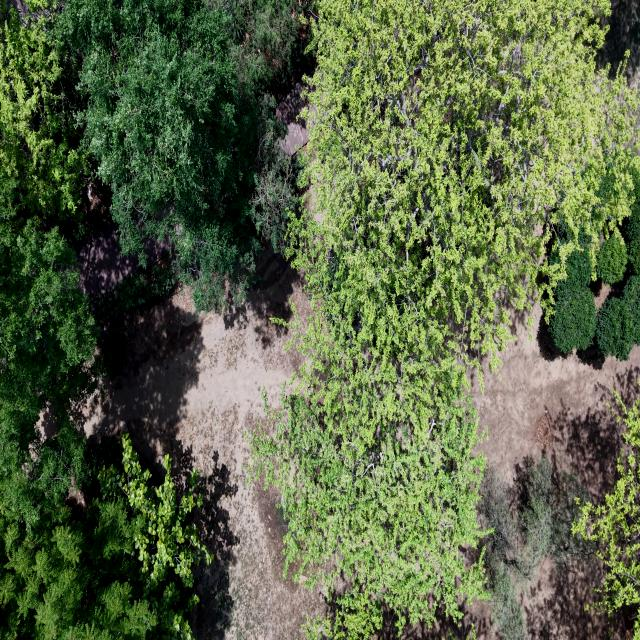DRY_AREA: (84, 249, 323, 639), (86, 251, 324, 639), (471, 305, 639, 497), (471, 304, 639, 481), (75, 224, 169, 297), (76, 224, 143, 297), (596, 0, 639, 87)
VEGETATION_TREE: (0, 0, 639, 639), (251, 0, 636, 624), (0, 8, 208, 639), (294, 1, 630, 358), (0, 0, 309, 309), (0, 218, 201, 639), (55, 0, 298, 309), (252, 322, 485, 625), (125, 1, 304, 303), (0, 7, 103, 520), (0, 7, 96, 520), (0, 436, 209, 639), (478, 392, 639, 639), (480, 391, 639, 639), (0, 220, 95, 521), (0, 497, 194, 639), (0, 219, 95, 476), (478, 457, 593, 639), (479, 457, 592, 639), (0, 219, 94, 419), (0, 9, 85, 222), (550, 168, 639, 359), (97, 435, 210, 585), (573, 392, 639, 614), (2, 373, 90, 523), (208, 0, 312, 93), (596, 168, 639, 359), (549, 273, 639, 359), (250, 93, 296, 253), (90, 255, 175, 321), (549, 232, 595, 352), (303, 591, 395, 639), (596, 273, 639, 359), (304, 592, 382, 639), (549, 279, 595, 352), (596, 296, 632, 359), (596, 227, 627, 283), (96, 326, 125, 380), (565, 231, 592, 287), (625, 170, 639, 273), (626, 206, 639, 271), (632, 619, 639, 639)
